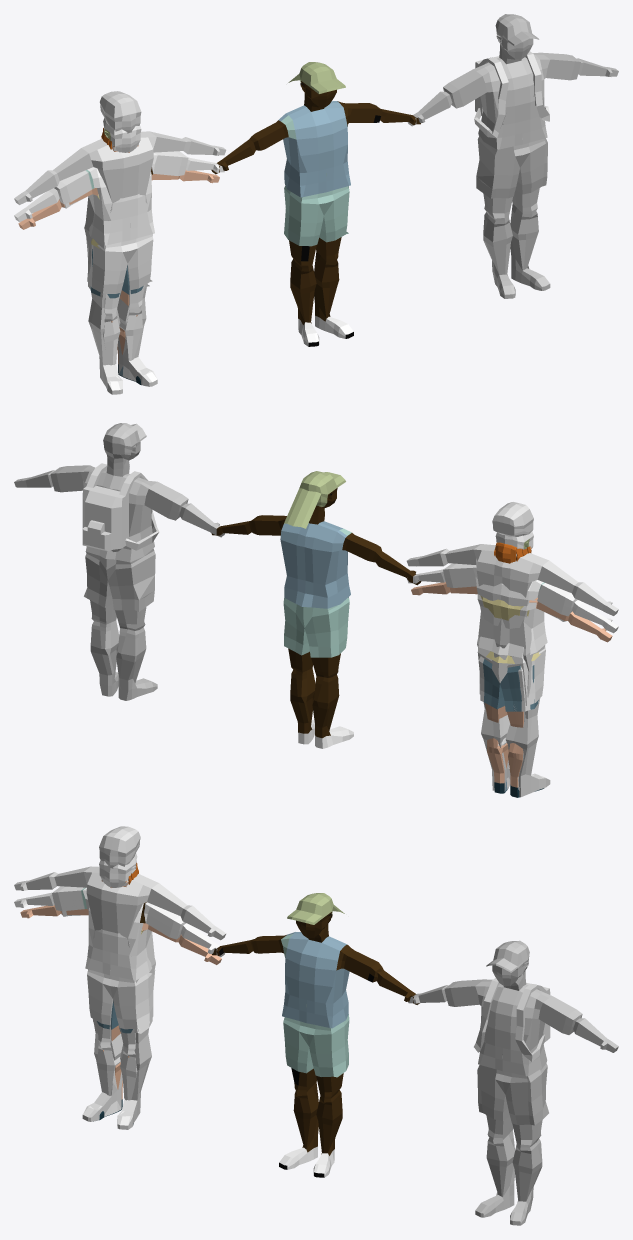
Rendered from CharacterPalatteTest.fbx.
3 views of the same model, one above another, from view 1: azimuth 30°, elevation 25°; view 2: azimuth 150°, elevation 25°; view 3: azimuth 330°, elevation 25° (orthographic).
Parts seen in each view (by area): view 1: Boy, Boy2, Boy2.001, Base.001, Girl1, Backpack; view 2: Boy2, Boy, Base.001, Boy2.001, Girl1, Backpack, Girl1.001; view 3: Boy, Boy2, Boy2.001, Base.001, Girl1, Backpack.
Part boxes in pixels (left/top/right/bottom): Boy: left=407, top=14, right=618, bottom=298; Boy2: left=211, top=62, right=420, bottom=346; Boy2.001: left=14, top=118, right=224, bottom=390; Base.001: left=14, top=91, right=226, bottom=394; Girl1: left=18, top=128, right=219, bottom=385; Backpack: left=474, top=51, right=549, bottom=138; Boy2: left=211, top=471, right=421, bottom=748; Boy: left=14, top=423, right=224, bottom=700; Base.001: left=406, top=502, right=618, bottom=797; Boy2.001: left=406, top=531, right=618, bottom=791; Girl1: left=411, top=542, right=612, bottom=797; Backpack: left=82, top=463, right=159, bottom=552; Girl1.001: left=477, top=548, right=566, bottom=777; Boy: left=408, top=940, right=618, bottom=1225; Boy2: left=212, top=893, right=419, bottom=1177; Boy2.001: left=14, top=853, right=224, bottom=1125; Base.001: left=14, top=826, right=226, bottom=1129; Girl1: left=20, top=863, right=221, bottom=1124; Backpack: left=474, top=978, right=550, bottom=1061.
Size of the model in its own units: 307 by 138 by 38.75.
